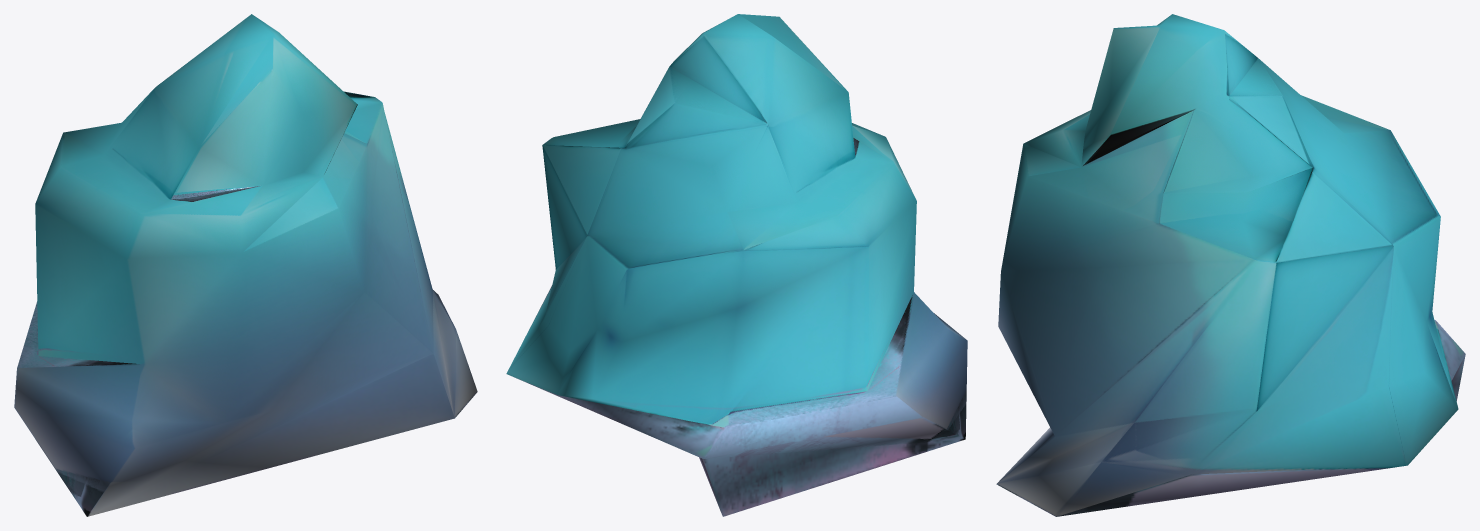
Rendered from cake_1_retexture.glb.
3 views of the same model, side by side, from view 1: azimuth 30°, elevation 25°; view 2: azimuth 150°, elevation 25°; view 3: azimuth 270°, elevation 25° (orthographic). The views are drawn at different scales.
Size of the model in its own units: 2 by 1.94 by 1.79.
Materials: 1 (1 with a texture image).
